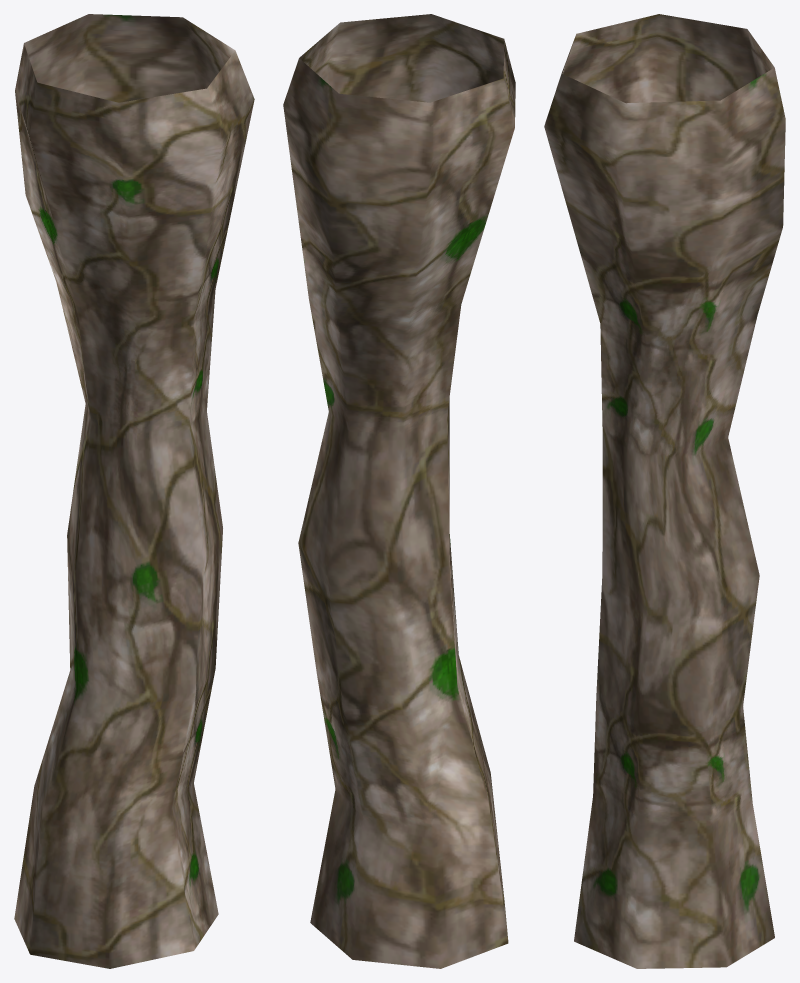
The model's file is EKH_GROTTO_PS_GR_LINE195.fbx.
The picture shows the model from 3 angles, left to right: view 1: azimuth 30°, elevation 25°; view 2: azimuth 150°, elevation 25°; view 3: azimuth 270°, elevation 25°; orthographic projection.
Visible parts, largest first — view 1: EKH_GROTTO_PS_GR_LINE195; view 2: EKH_GROTTO_PS_GR_LINE195; view 3: EKH_GROTTO_PS_GR_LINE195.
Part boxes in pixels (x1,y1,x2,y2): EKH_GROTTO_PS_GR_LINE195: (14, 14, 254, 968); EKH_GROTTO_PS_GR_LINE195: (283, 14, 515, 968); EKH_GROTTO_PS_GR_LINE195: (544, 14, 785, 968).
Size of the model in its own units: 27110 by 109907 by 27386.
1 material, 1 textured.
